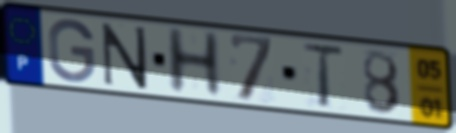7: (228, 32, 276, 105)
8: (360, 48, 403, 117)
G: (46, 17, 97, 85)
H: (163, 25, 225, 97)
N: (100, 21, 150, 91)
T: (299, 42, 348, 111)
